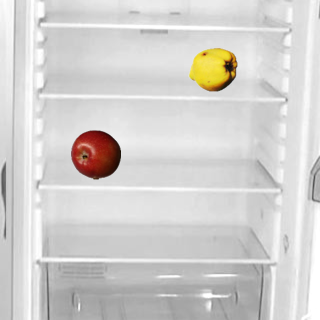Apple Braeburn: (70, 129, 120, 179)
Quince: (187, 44, 237, 94)
